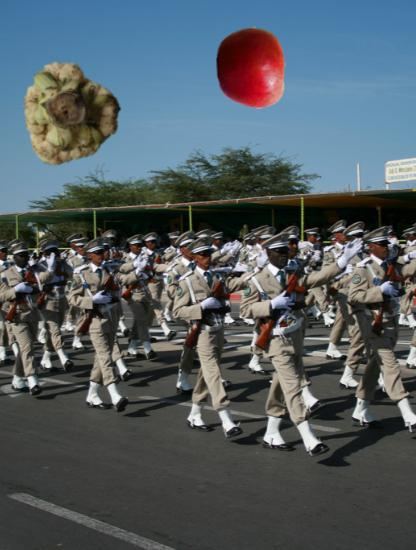Apple: (210, 27, 293, 110)
Cauliflower: (18, 57, 123, 162)
